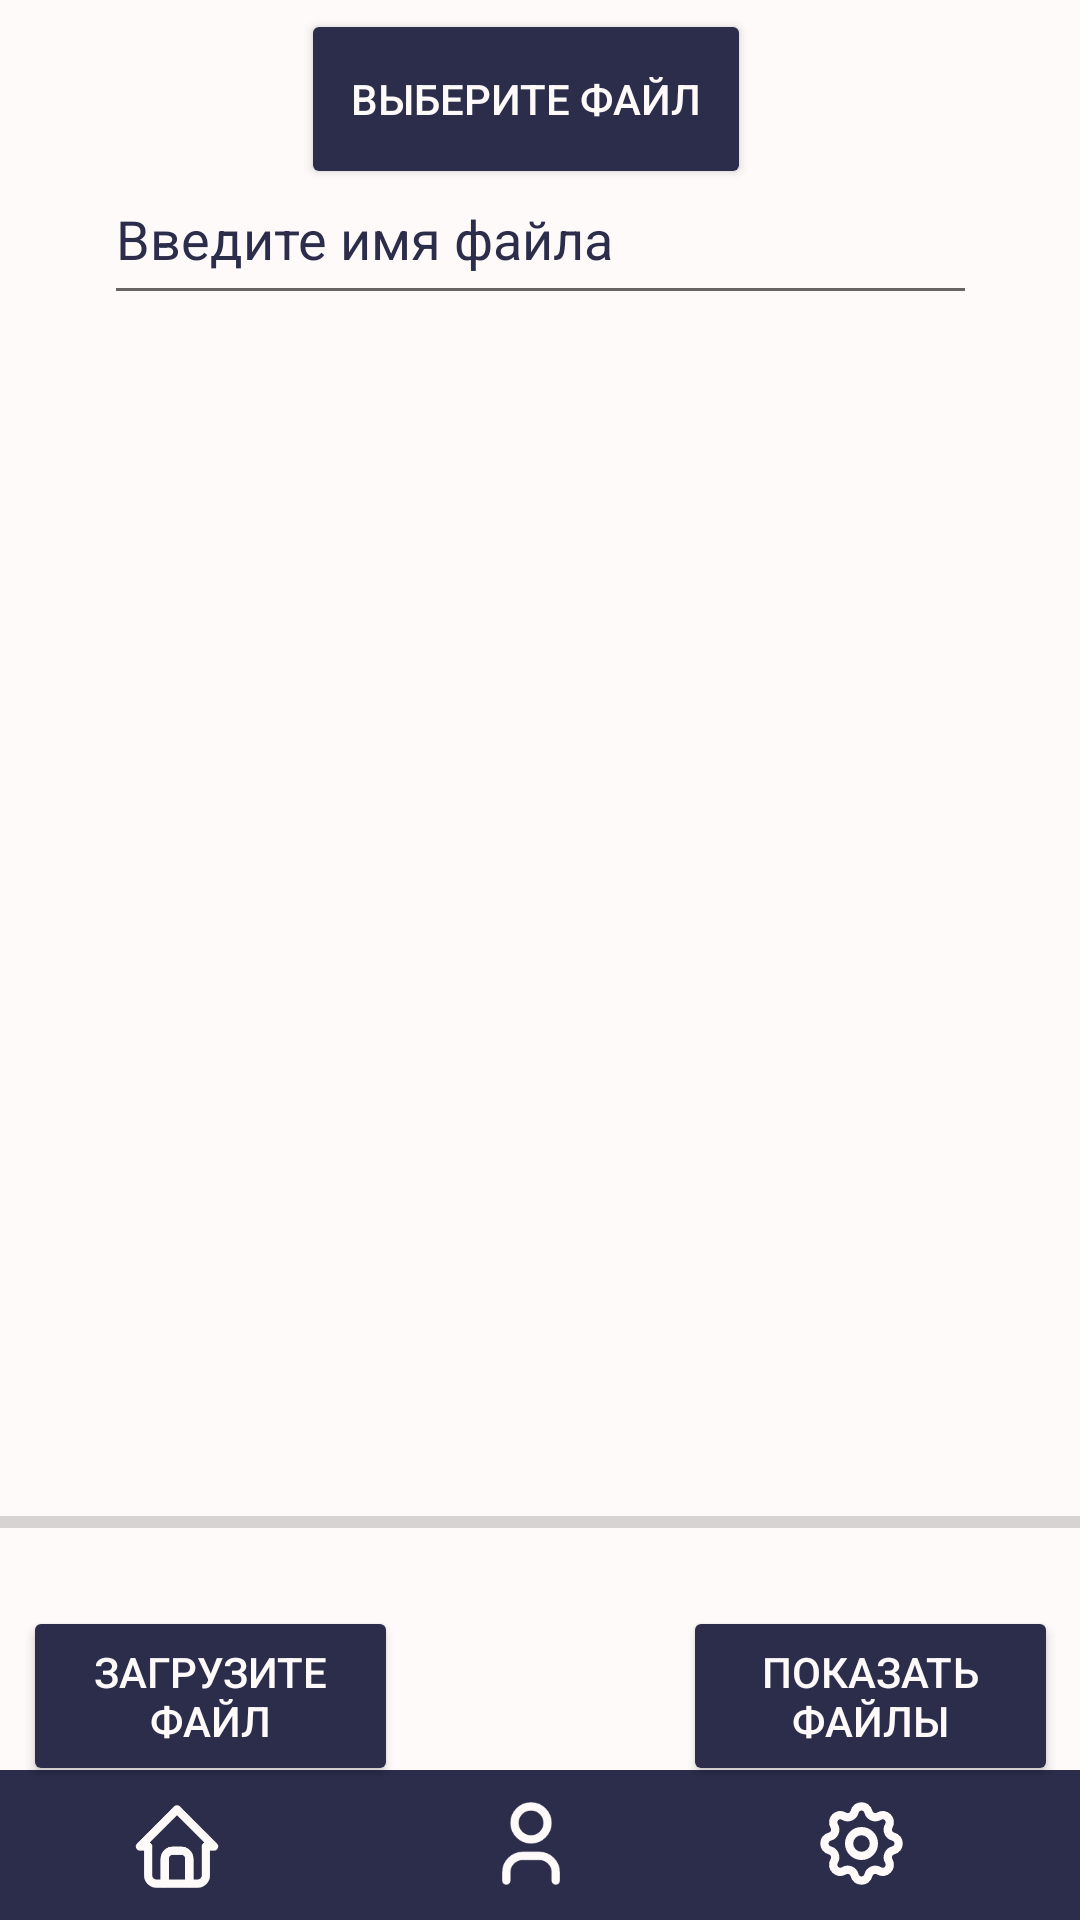

Icons on this 1080 x 1920 Android screen, each with the point to tap as (x,y):
home: (177,1846)
settings: (861,1843)
user: (531,1843)
